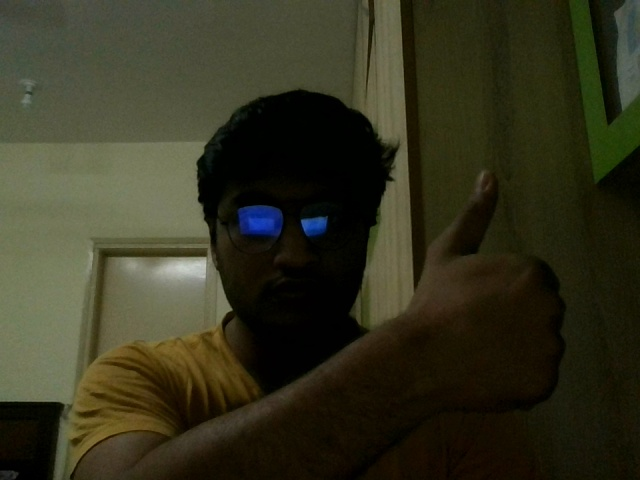thumbsup: (407, 170, 565, 415)
